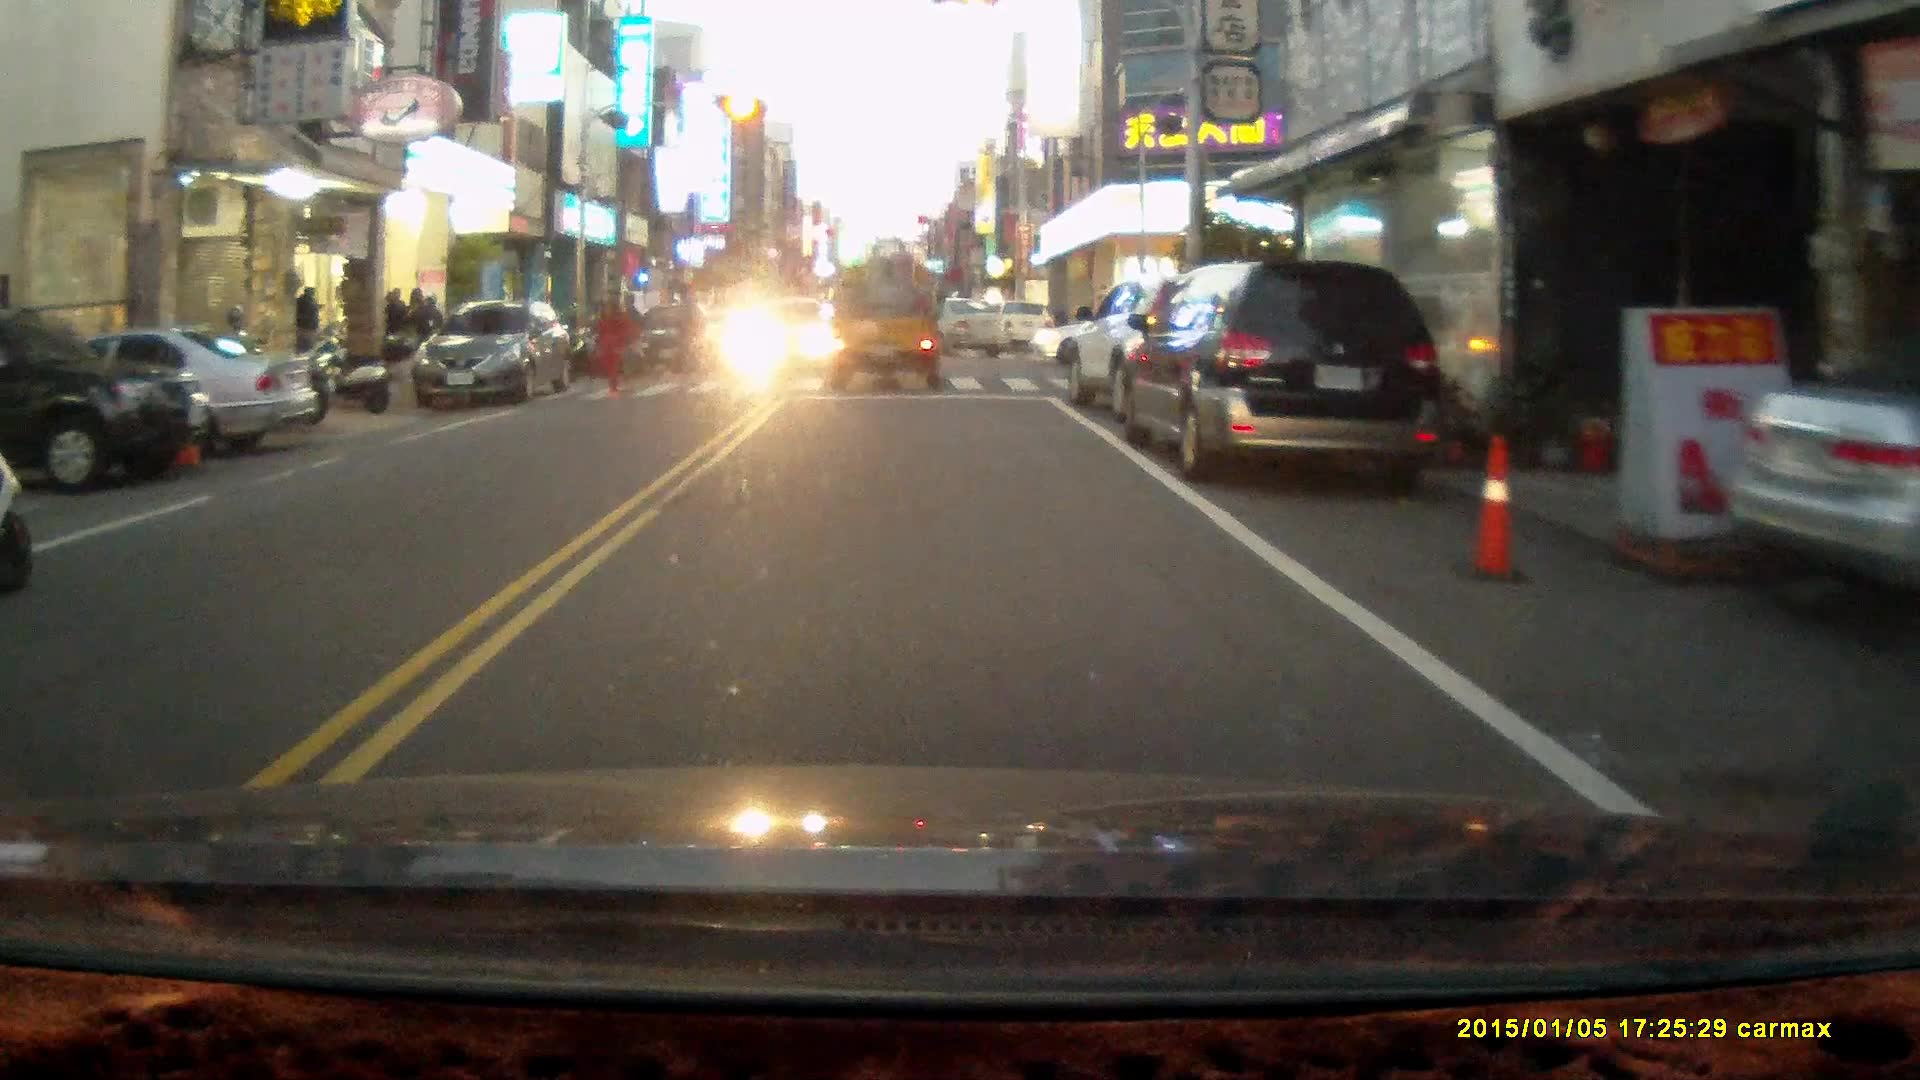pedestrian: (590, 284, 635, 393), (291, 281, 324, 368)
vehicle: (1109, 259, 1447, 480), (1, 302, 216, 498), (1728, 354, 1920, 570), (6, 327, 319, 460), (1063, 277, 1299, 429), (819, 235, 952, 390), (416, 302, 577, 408), (890, 299, 1016, 361), (724, 295, 827, 368), (629, 305, 724, 373)
